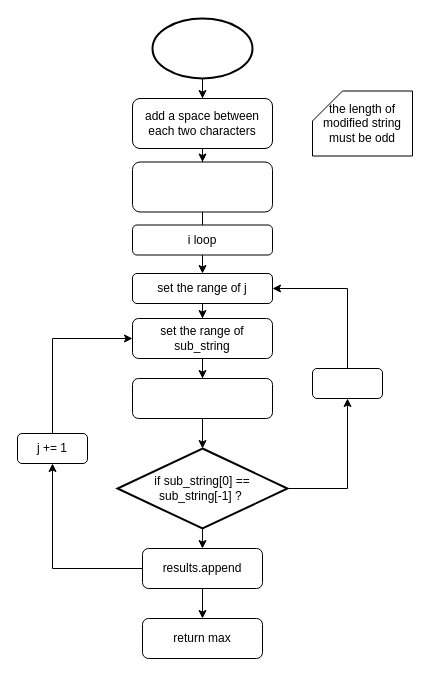
Image size: 430x676. Some labels were removed from this diagram. The shapes that lost their labels are listed below. From the top down, each one's centre as x and y in pixels, then its label:
At point (202, 48): "Start".
At point (202, 186): "set original results = [(0, 0)]".
At point (202, 398): "construct sub_string".
At point (347, 383): "i += 1".
